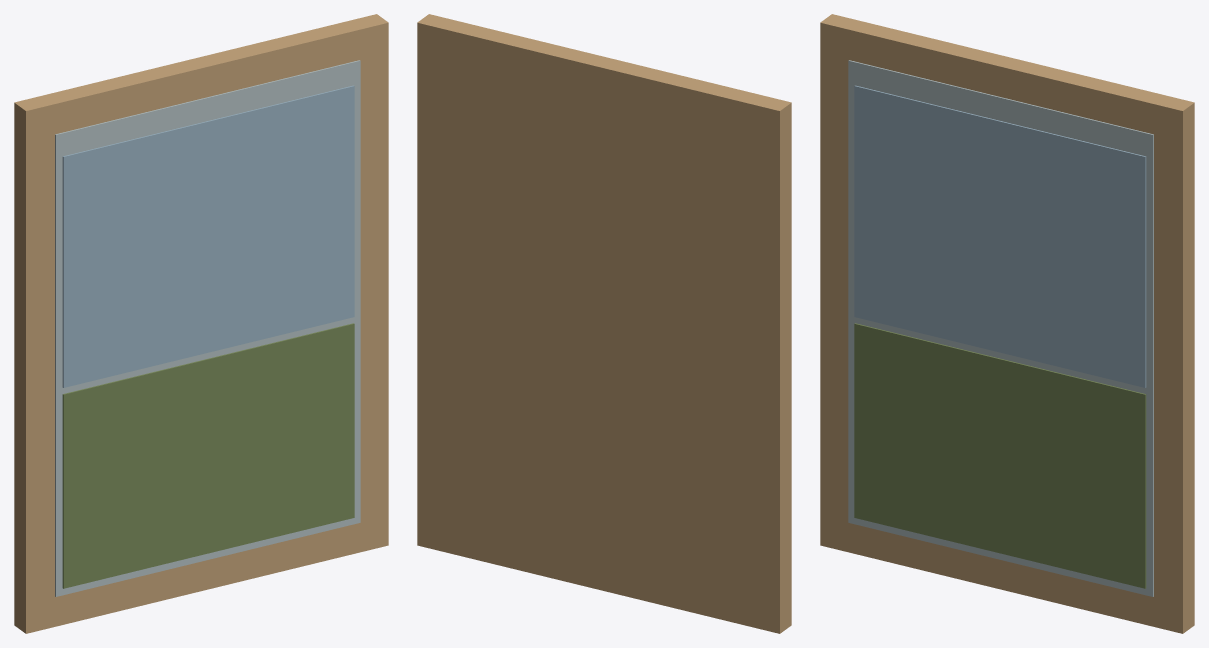
Rendered from cadre-erina.glb.
The picture shows the model from 3 angles, left to right: view 1: azimuth 30°, elevation 25°; view 2: azimuth 150°, elevation 25°; view 3: azimuth 330°, elevation 25°; orthographic projection.
Parts seen in each view (by area): view 1: produit; view 2: produit; view 3: produit.
Boxes of the visible parts, x1=… form: produit: x1=14, y1=14, x2=388, y2=633; produit: x1=417, y1=14, x2=791, y2=633; produit: x1=820, y1=14, x2=1194, y2=633.
Size of the model in its own units: 0.53 by 0.73 by 0.034.
